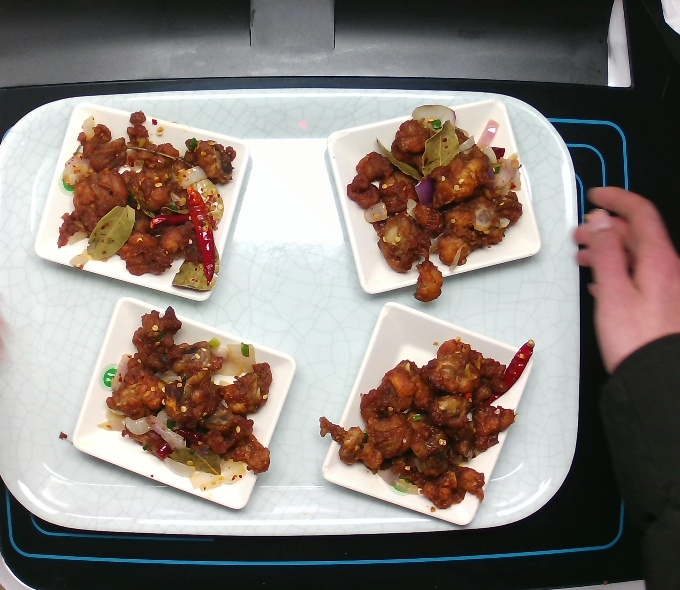wcq-LaZiJiKuai: (315, 335, 538, 513), (343, 101, 527, 308), (53, 107, 239, 295), (104, 304, 278, 487)
